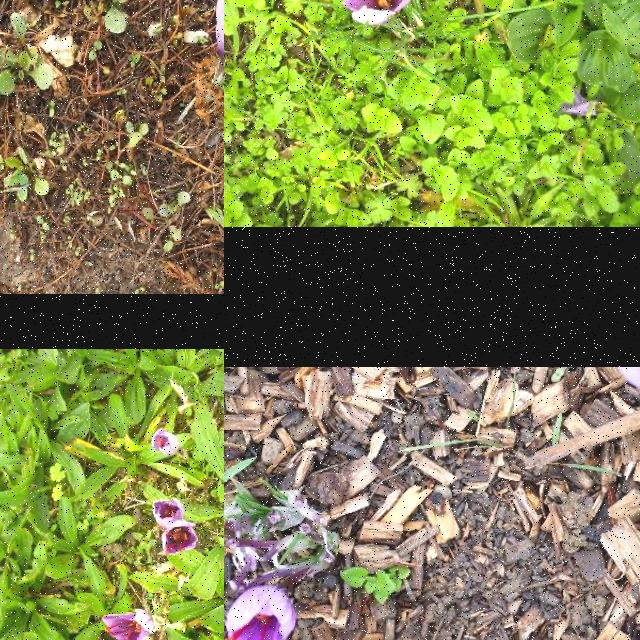flower: (224, 587, 297, 640), (333, 0, 421, 25), (101, 609, 156, 640), (159, 520, 199, 556), (153, 497, 185, 527), (152, 428, 180, 456), (621, 367, 640, 406), (216, 0, 224, 60)
